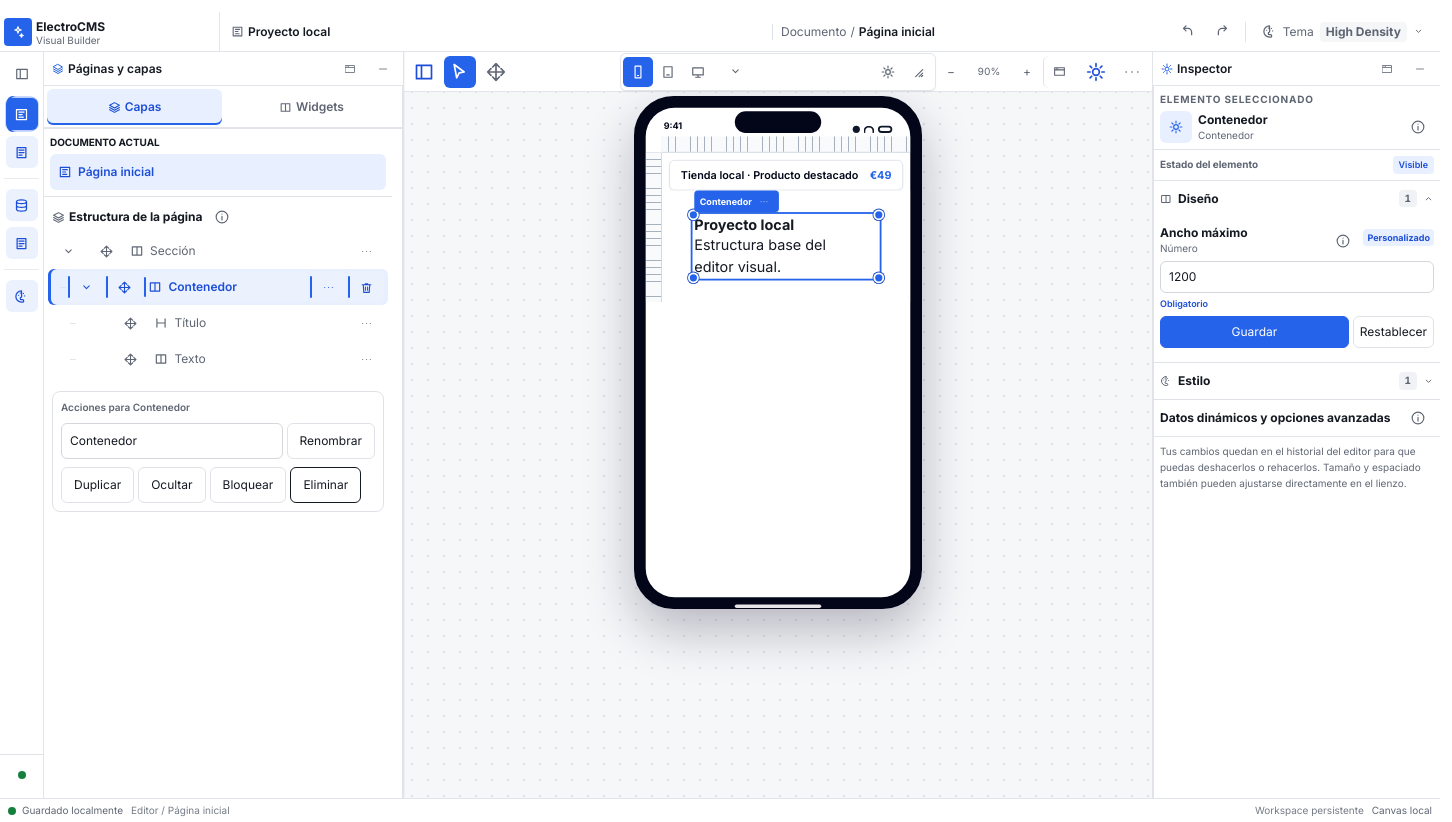
App › permite colapsar y restaurar los paneles laterales en escritorio
What coordinates should you click on to do the following:
click the button named "alternar páginas y capas"
I would click on:
 (424, 72)
Its box is [408,56,440,88].
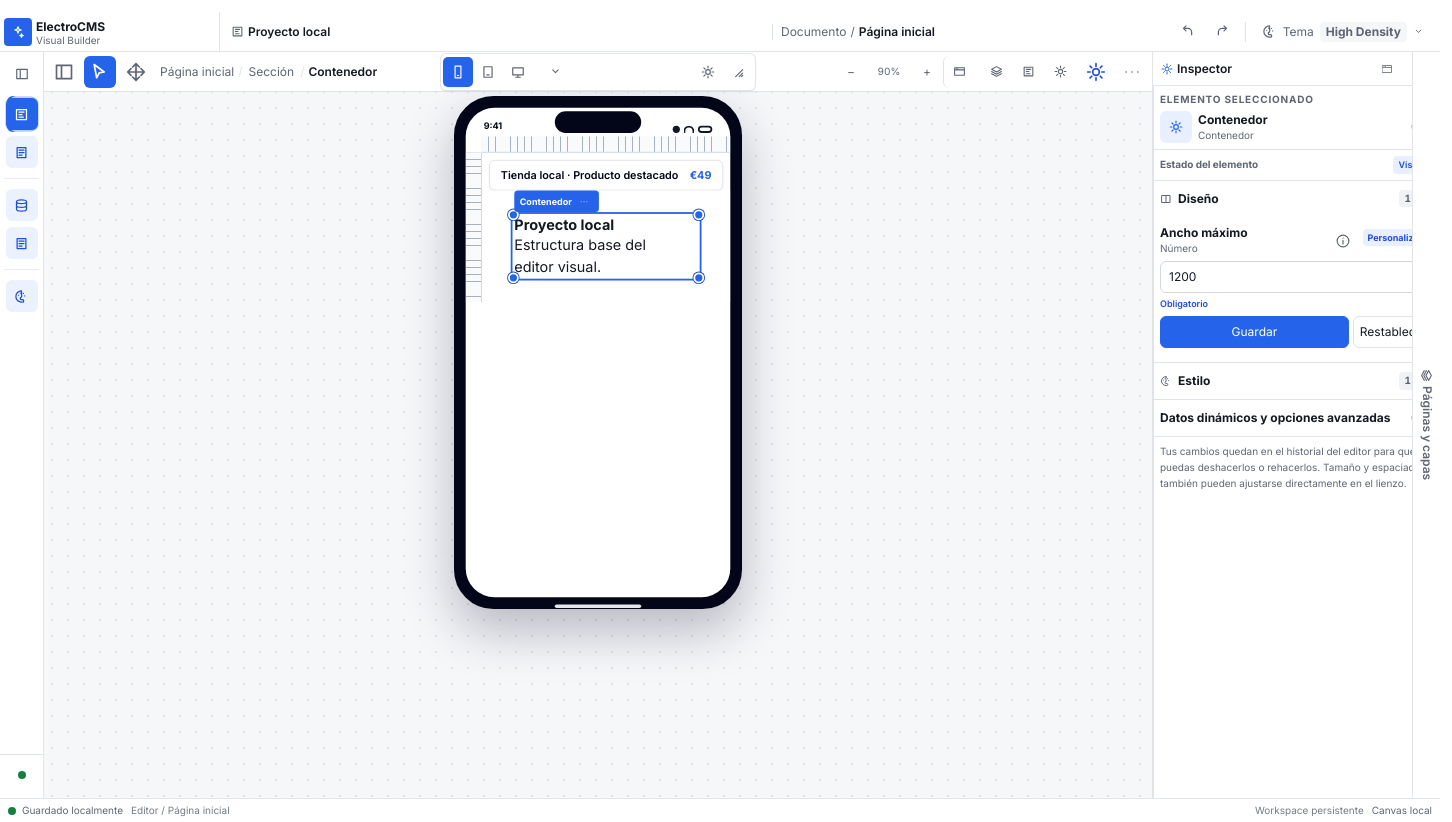
expect the button "biblioteca y capas" is gone: met
What coordinates should you click on to do the following:
click the button named "alternar páginas y capas"
I would click on:
 (64, 72)
Its box is [48,56,80,88].
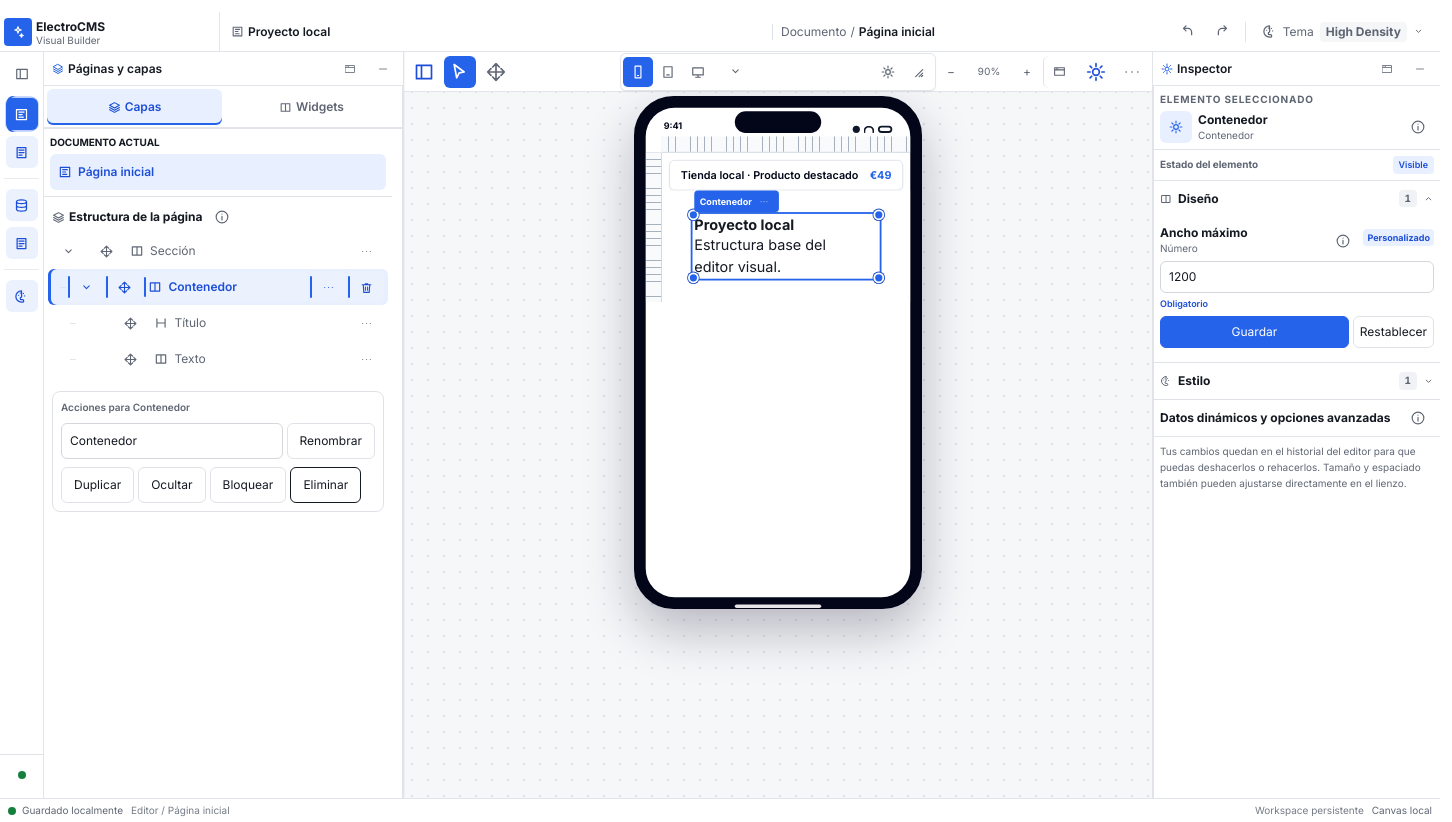
expect the element named "biblioteca y capas" is shown: met, box [44,86,403,798]
What coordinates should you click on to do the following:
click the button named "alternar inspector"
I would click on:
 (1096, 72)
Its box is [1080,56,1112,88].
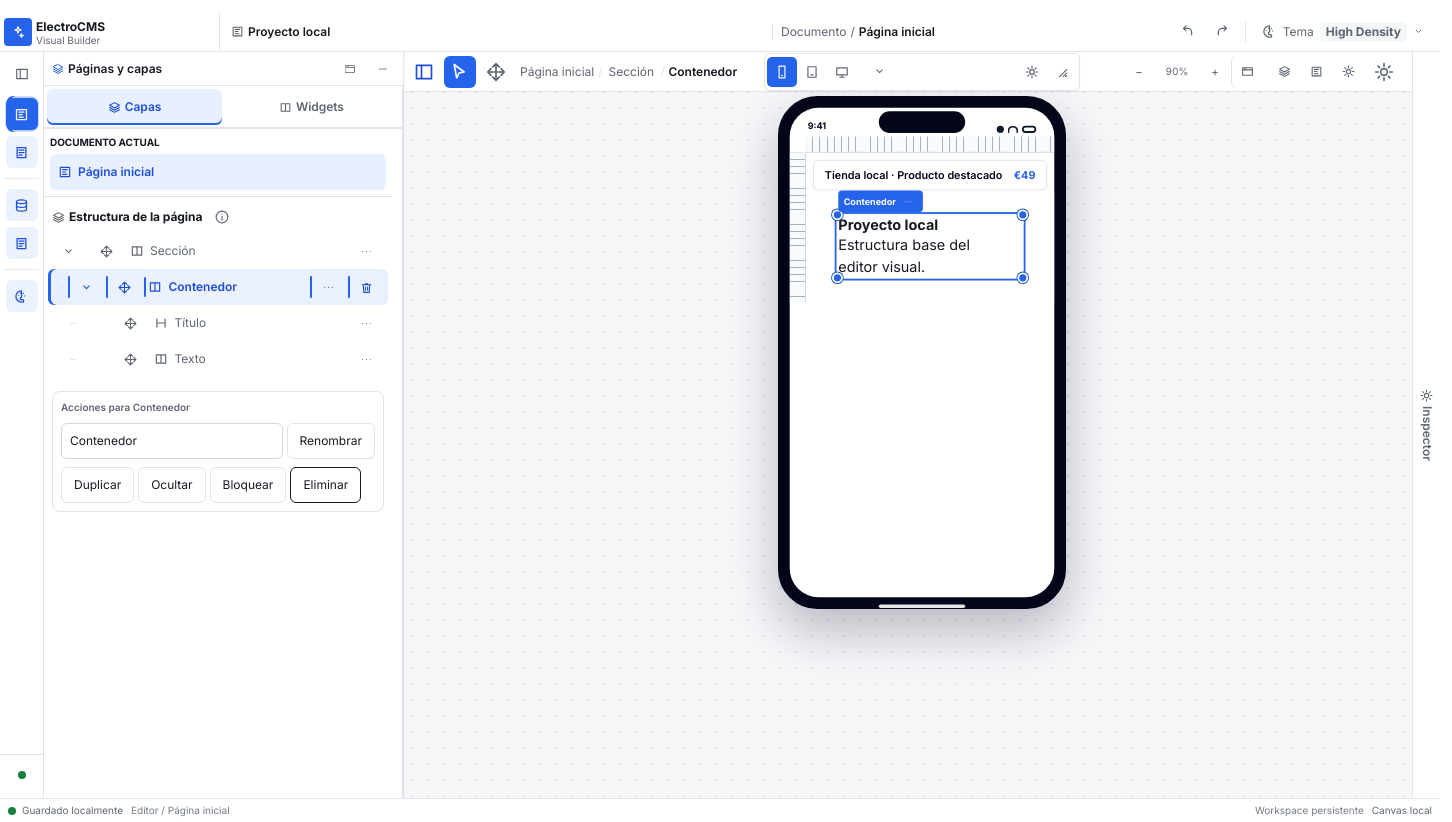
What coordinates should you click on to do the following:
click the button named "alternar inspector"
I would click on:
 (1384, 72)
Its box is [1368,56,1400,88].
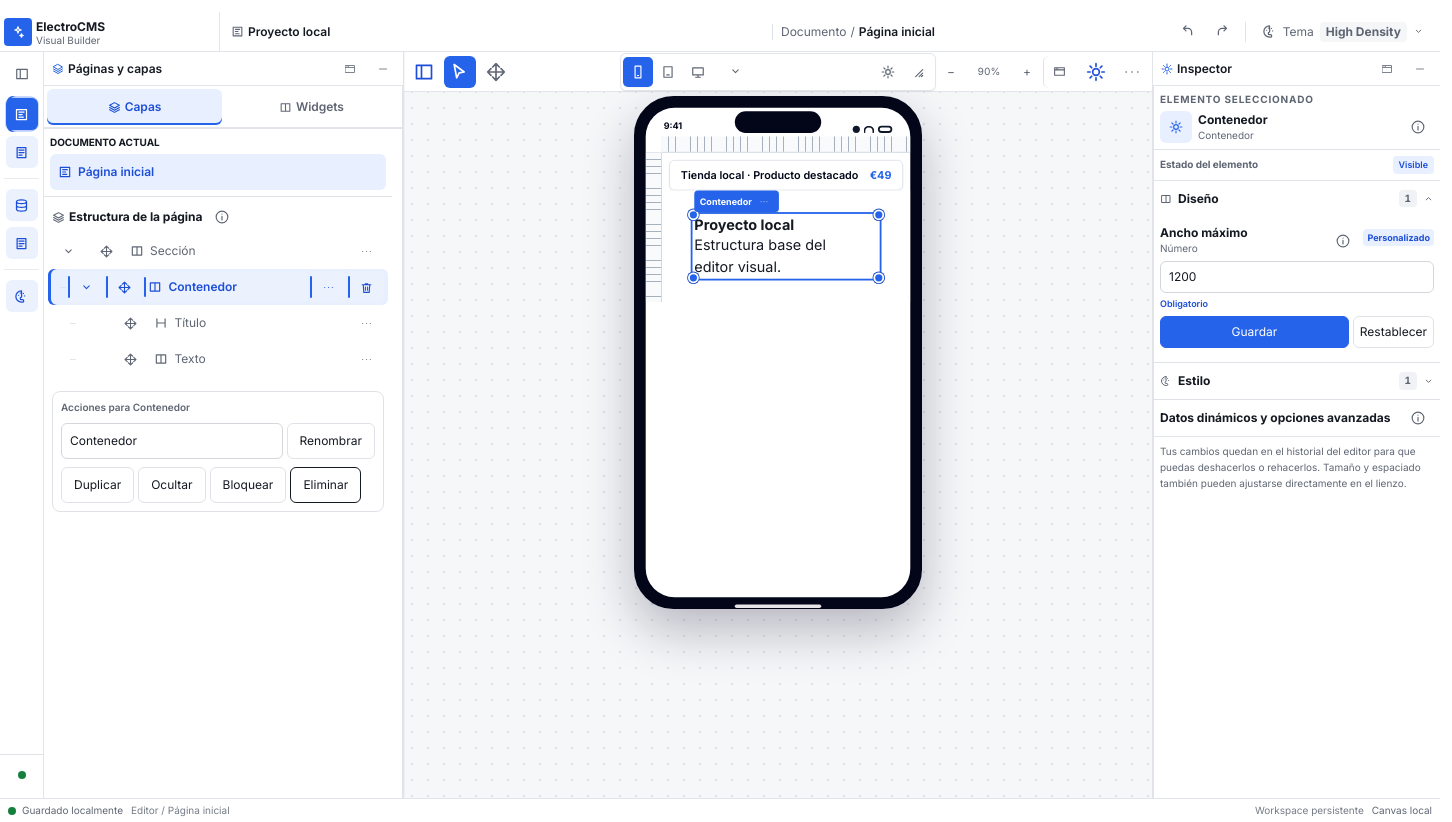
expect the element named "inspector de propiedades" is shown: met, box [1153,86,1440,798]
